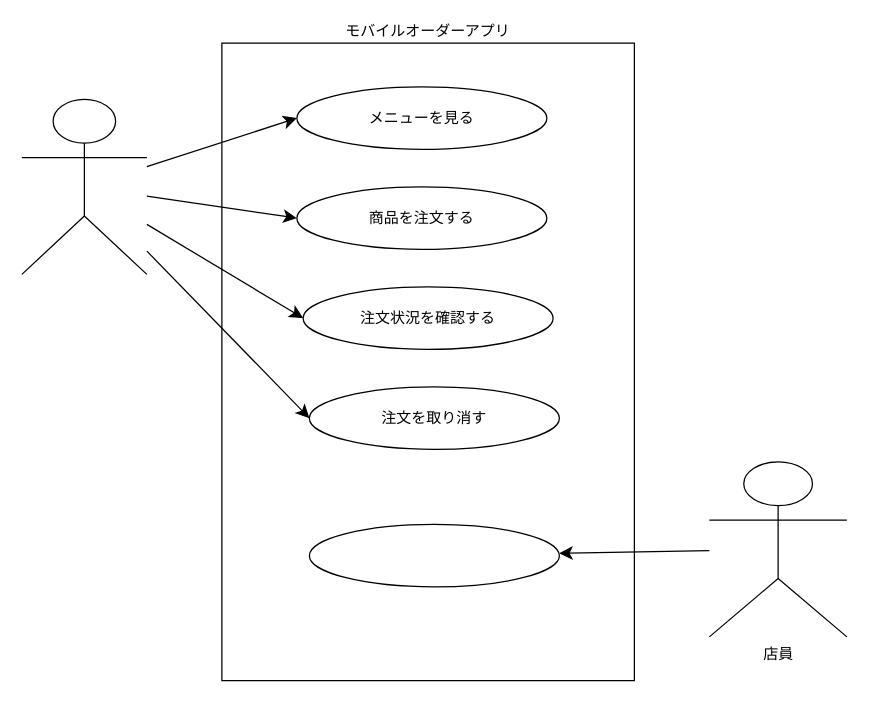
Image size: 869x703. Some labels were removed from this diagram. The centre of each missing label's shape, as x and y in pixels:
"お客さま" belongs at (84,186).
"注文を受け渡す" belongs at (433,555).
